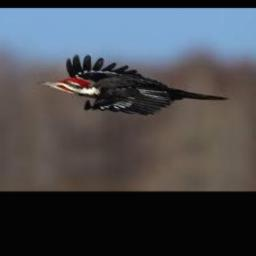Woodpecker: (36, 54, 228, 115)
